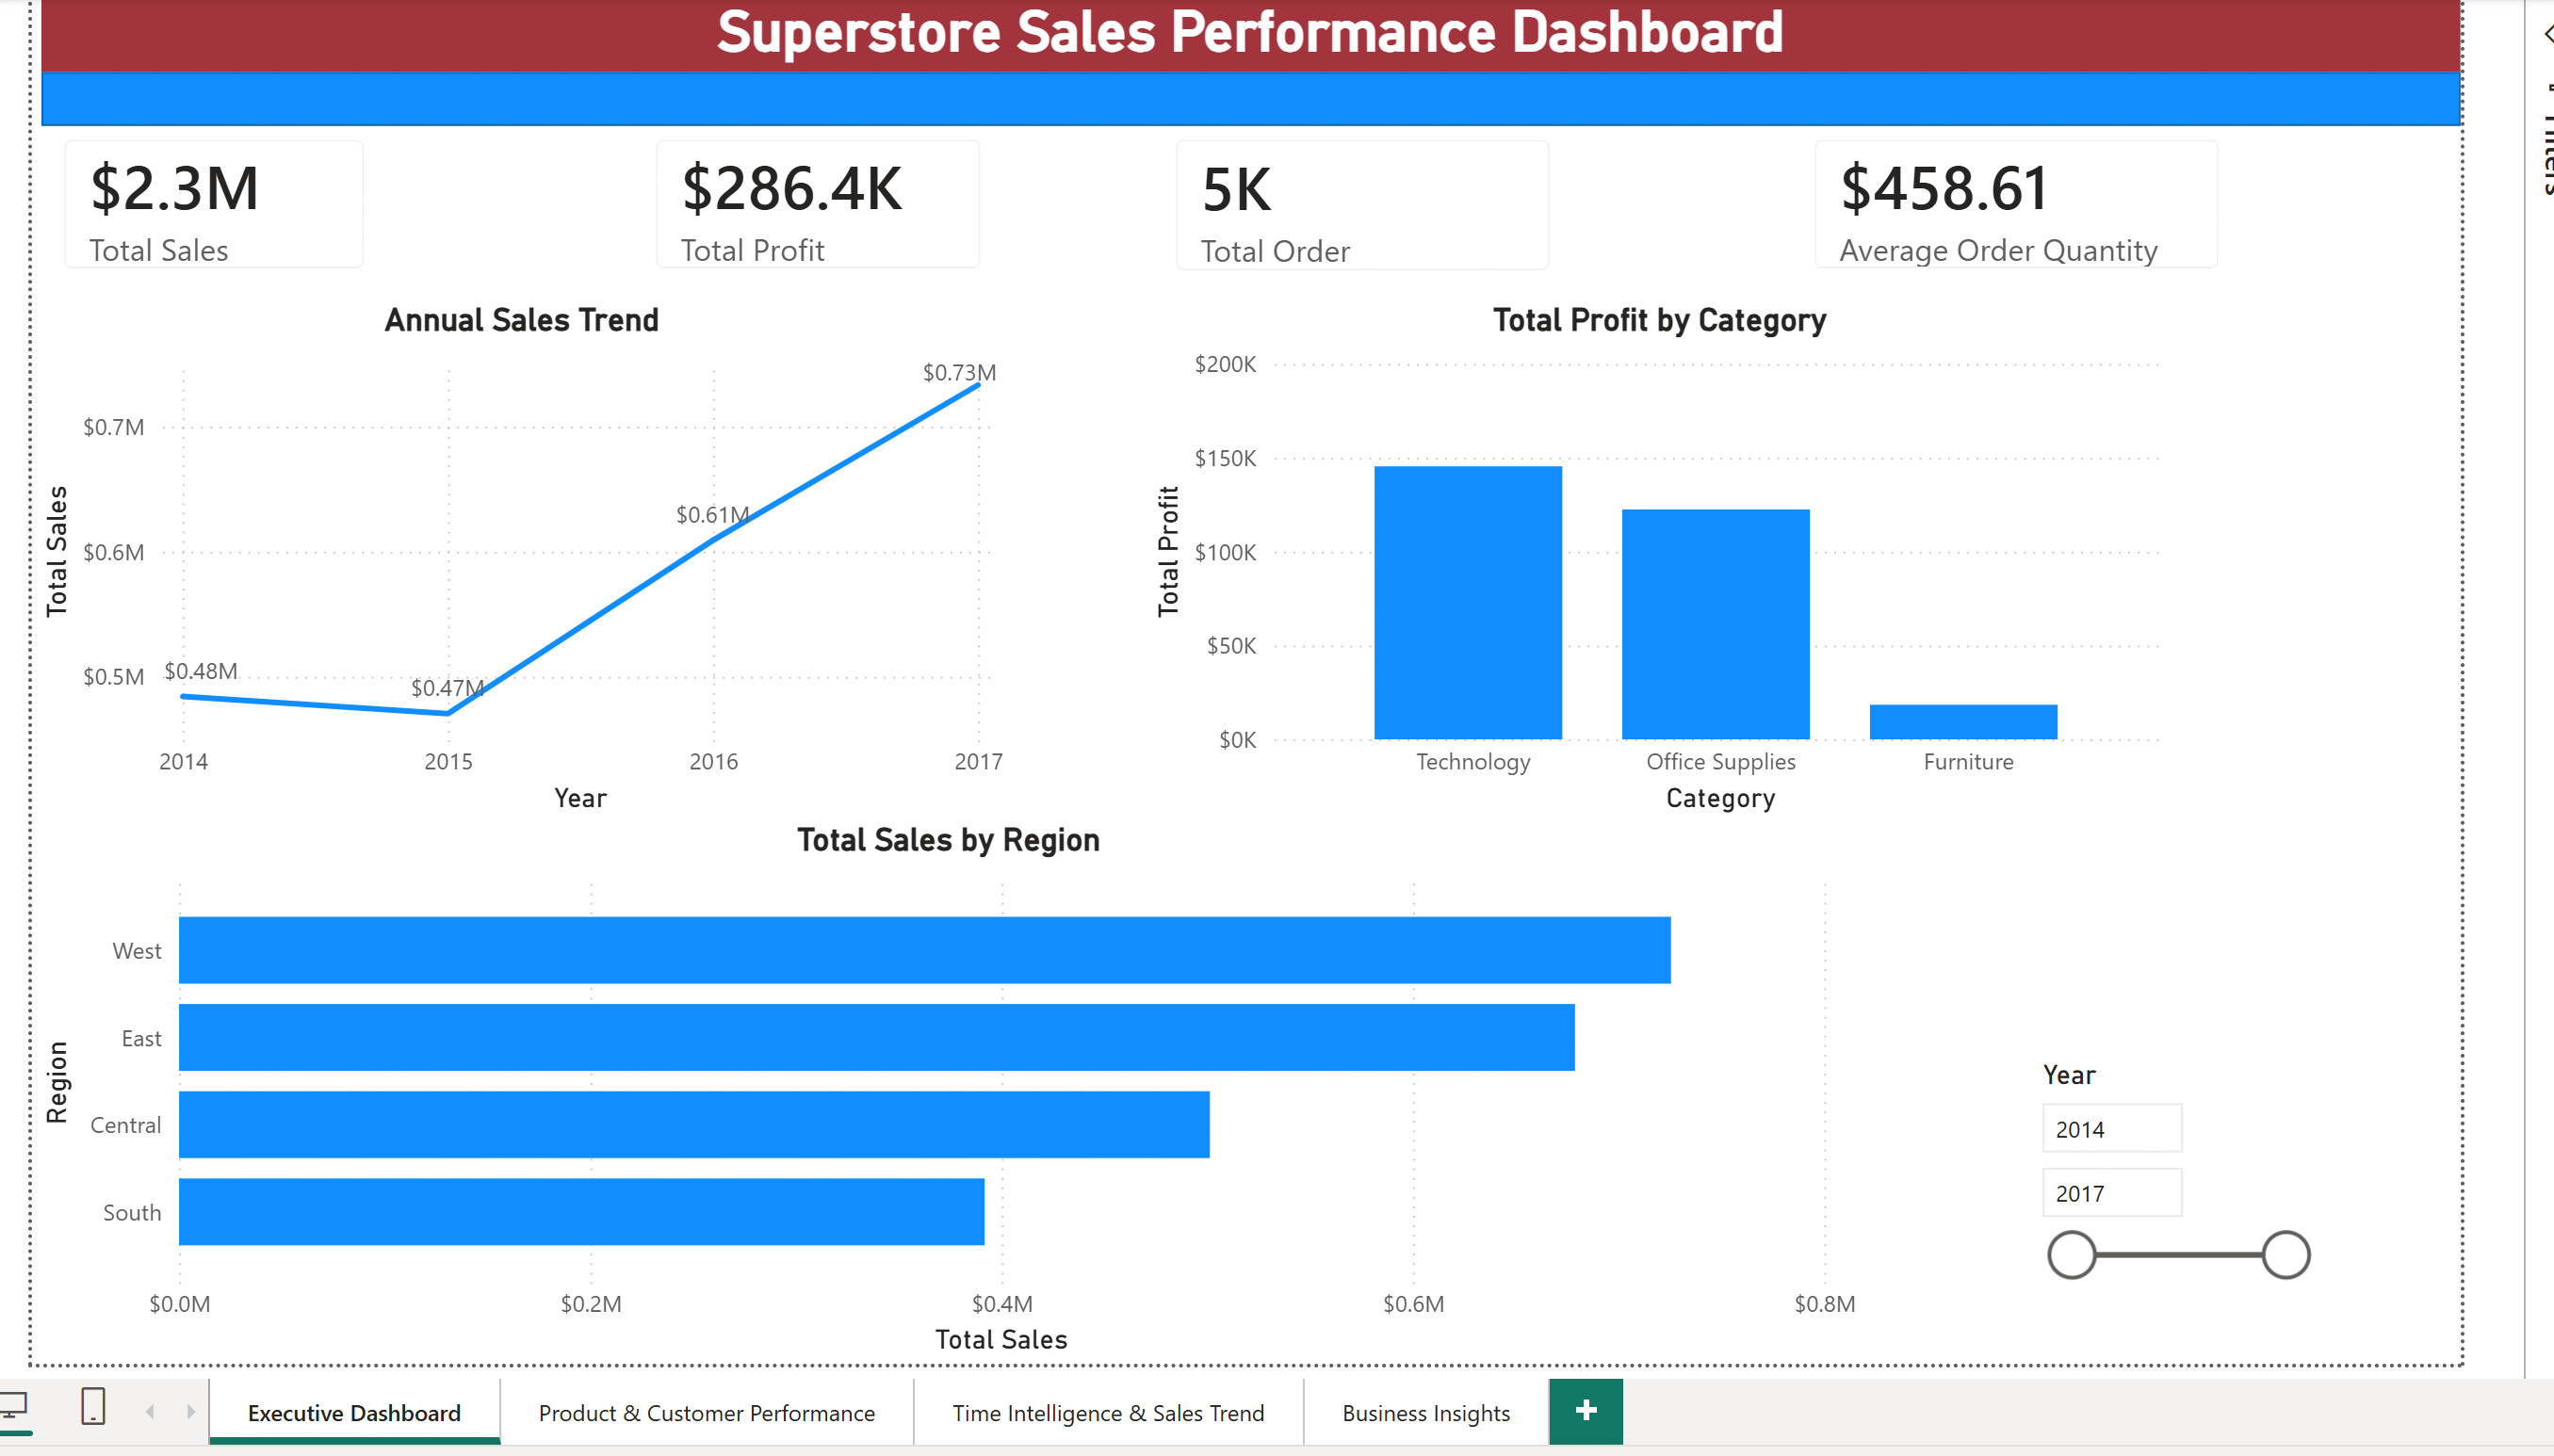

The page's visual inventory and layout, read from the dashboard file:
{"tool":"powerbi","page":{"name":"Executive Dashboard","canvas":[1280,720],"ordinal":0},"visuals":[{"type":"cardVisual","fields":{"Data":["Sales Data.Total Sales"]},"box":[0,57.8,192.2,102.2],"z":0},{"type":"cardVisual","fields":{"Data":["Sales Data.Total Profit"]},"box":[312.2,57.8,205.6,102.2],"z":1000},{"type":"cardVisual","fields":{"Data":["Sales Data.Total Order"]},"box":[585.6,57.8,231.1,103.3],"z":2000},{"type":"cardVisual","fields":{"Data":["Sales Data.Average Order Quantity"]},"box":[922.2,57.8,247.8,102.2],"z":3000},{"type":"lineChart","title":"Annual Sales Trend","fields":{"Category":["Date Table.Year"],"Y":["Sales Data.Total Sales"]},"box":[0,160,516.7,274.4],"z":4000},{"type":"clusteredBarChart","fields":{"Category":["Sales Data.Region"],"Y":["Sales Data.Total Sales"]},"box":[0,434.4,966.7,286],"z":5000},{"type":"clusteredColumnChart","fields":{"Category":["Sales Data.Category"],"Y":["Sales Data.Total Profit"]},"box":[585.6,160,544.4,274.4],"z":6000},{"type":"slicer","fields":{"Values":["Date Table.Year"]},"box":[1046.6,554.6,162.4,151.6],"z":7000},{"type":"textbox","box":[1130,160,150,274],"z":8000},{"type":"shape","title":"Superstore Sales Performance Dashboard","box":[4.8,0,1275.2,67.4],"z":9000}]}

Visuals, with their boxes on the page's 1280x720 design canvas (x1, y1, x2, y2). These are canvas units, not pixel positions in the 2554x1456 screenshot, which may show the page scaled, cropped or inside an application window:
cardVisual - Sales Data.Total Sales: (0, 58, 192, 160)
cardVisual - Sales Data.Total Profit: (312, 58, 518, 160)
cardVisual - Sales Data.Total Order: (586, 58, 817, 161)
cardVisual - Sales Data.Average Order Quantity: (922, 58, 1170, 160)
"Annual Sales Trend" lineChart: (0, 160, 517, 434)
clusteredBarChart - Sales Data.Region x Sales Data.Total Sales: (0, 434, 967, 720)
clusteredColumnChart - Sales Data.Category x Sales Data.Total Profit: (586, 160, 1130, 434)
slicer - Date Table.Year: (1047, 555, 1209, 706)
textbox: (1130, 160, 1280, 434)
"Superstore Sales Performance Dashboard" shape: (5, 0, 1280, 67)
